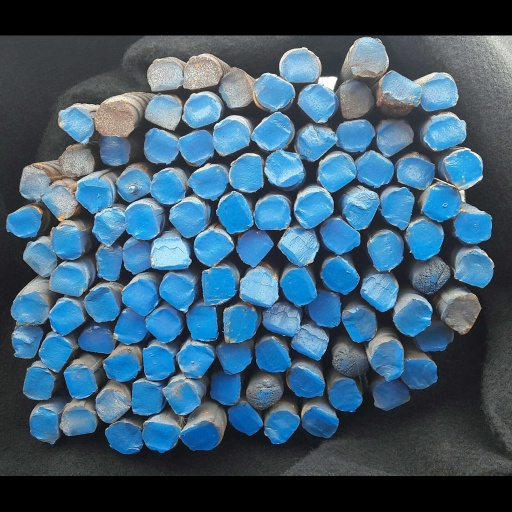dipstick: (443, 294, 482, 334), (279, 228, 318, 267), (298, 84, 338, 122), (424, 114, 466, 150), (455, 250, 494, 288), (444, 151, 482, 190), (94, 100, 134, 137), (194, 230, 234, 267), (252, 112, 292, 149), (350, 37, 387, 77), (420, 73, 458, 111), (407, 220, 444, 259), (217, 193, 253, 233), (295, 125, 336, 160), (338, 80, 375, 118), (393, 300, 431, 337), (261, 302, 301, 337), (213, 119, 250, 156), (376, 120, 413, 157), (295, 191, 332, 228), (237, 230, 273, 268), (367, 231, 403, 269), (422, 185, 460, 221), (187, 166, 228, 199), (122, 279, 158, 316), (240, 271, 277, 307), (383, 72, 420, 108), (291, 325, 328, 361), (322, 257, 359, 293), (361, 274, 397, 311), (201, 267, 236, 305), (264, 150, 302, 185), (281, 267, 316, 305), (219, 69, 253, 108), (255, 74, 294, 108), (151, 237, 191, 270), (58, 108, 94, 144), (170, 201, 206, 237), (319, 155, 355, 191), (414, 259, 451, 294), (345, 191, 379, 229), (320, 219, 360, 251), (159, 274, 195, 309), (145, 96, 181, 131), (255, 337, 291, 372), (282, 48, 318, 83), (39, 335, 73, 372), (125, 203, 159, 240), (396, 158, 435, 190), (23, 242, 58, 277), (84, 287, 119, 322), (113, 309, 148, 344), (179, 130, 214, 165), (95, 389, 131, 423), (76, 178, 112, 212), (342, 306, 376, 342), (164, 380, 201, 413), (92, 208, 125, 245), (183, 56, 220, 89), (183, 94, 220, 127), (229, 154, 262, 191), (223, 305, 256, 342), (105, 422, 143, 454), (336, 120, 375, 151), (150, 170, 185, 204), (144, 129, 179, 163), (264, 411, 300, 444), (177, 345, 214, 377), (302, 406, 339, 438), (416, 319, 453, 351), (454, 211, 491, 243), (43, 184, 76, 219), (64, 364, 97, 399), (246, 377, 281, 410), (255, 196, 290, 229), (357, 153, 392, 186), (103, 349, 139, 381), (186, 305, 218, 341), (308, 291, 340, 327), (371, 340, 403, 376), (11, 292, 48, 323), (288, 366, 325, 397), (146, 309, 179, 343), (381, 191, 414, 225), (49, 302, 84, 334), (142, 346, 174, 381), (216, 343, 252, 374), (29, 407, 59, 444), (181, 420, 218, 450), (329, 378, 362, 411), (117, 169, 151, 201), (228, 403, 262, 435), (6, 206, 41, 237), (50, 265, 85, 296), (147, 59, 182, 90), (19, 165, 49, 201), (143, 421, 179, 451), (403, 358, 437, 389), (77, 326, 116, 353), (59, 146, 94, 176), (51, 224, 81, 259), (374, 380, 409, 410), (60, 406, 96, 435), (122, 237, 151, 273), (12, 325, 43, 358), (23, 367, 54, 399), (96, 243, 122, 281), (333, 348, 368, 376), (132, 382, 162, 414), (210, 372, 240, 404), (98, 136, 130, 165)
